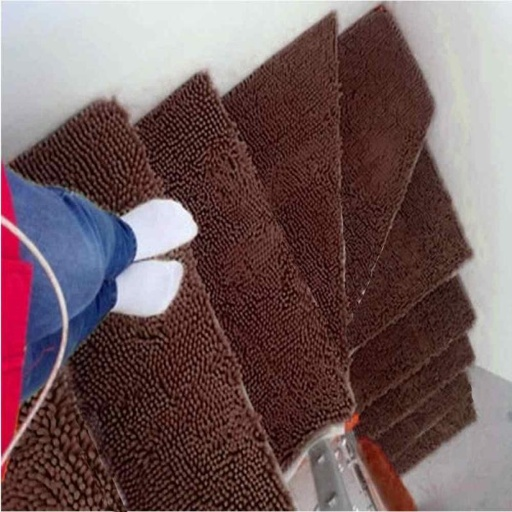Stairs: (4, 8, 473, 512)
